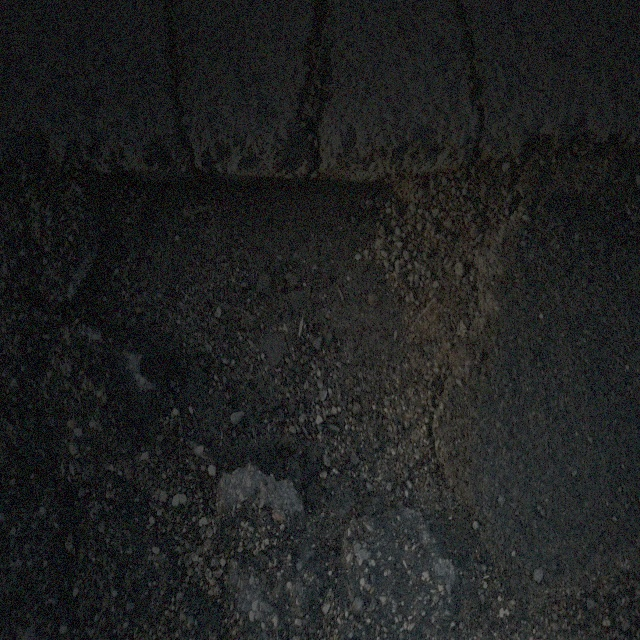pothole: (71, 127, 503, 564)
